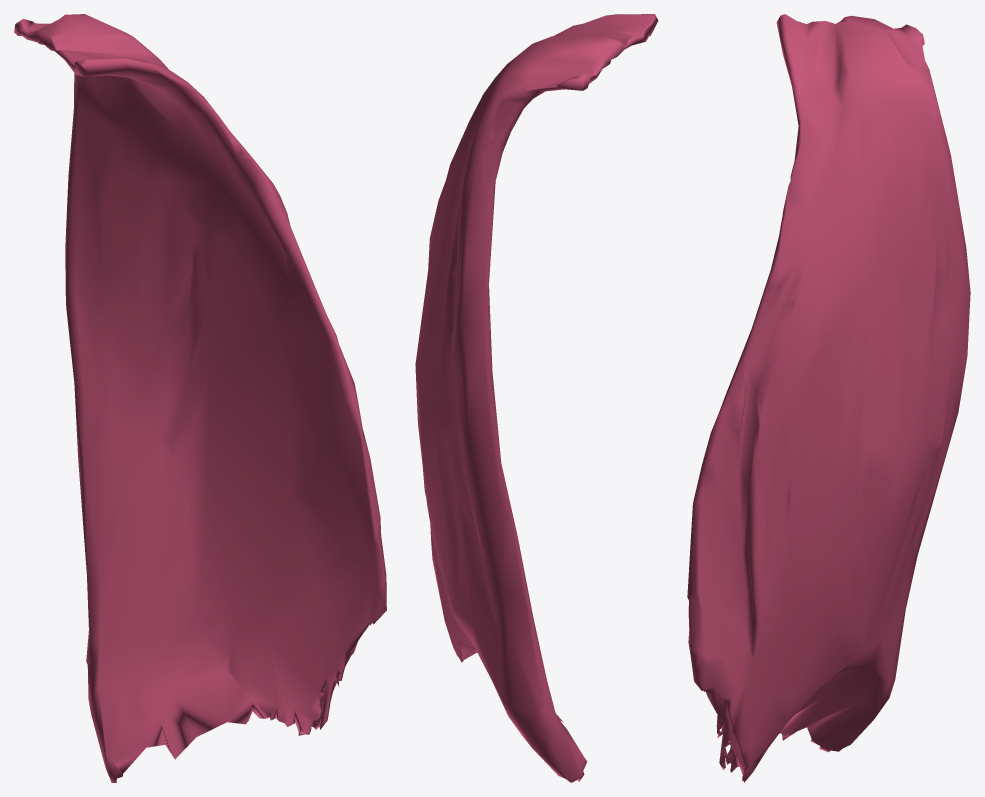
3 renders of one model, left to right at view 1: azimuth 30°, elevation 25°; view 2: azimuth 150°, elevation 25°; view 3: azimuth 270°, elevation 25°, orthographic. The views are drawn at different scales.
Parts seen in each view (by area): view 1: 左侧耻骨肛门肌; view 2: 左侧耻骨肛门肌; view 3: 左侧耻骨肛门肌.
Boxes of the visible parts, x1,y1,x2,y2 form: 左侧耻骨肛门肌: (14,14,386,782); 左侧耻骨肛门肌: (415,14,658,782); 左侧耻骨肛门肌: (687,14,970,782).
Size of the model in its own units: 0.0448 by 0.1241 by 0.0446.
